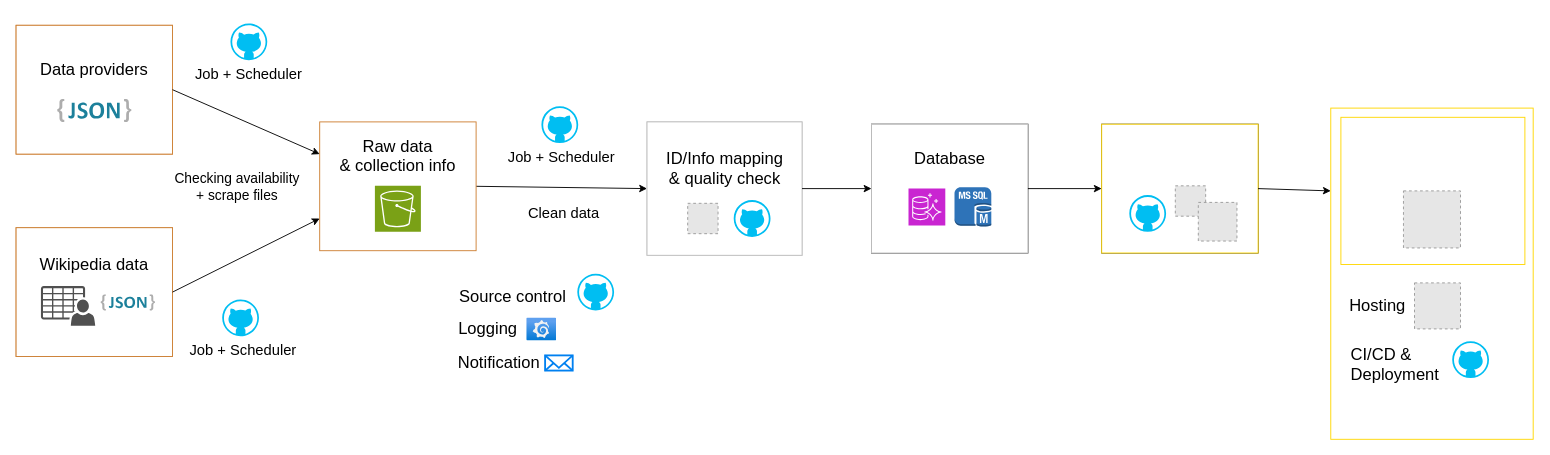
Image size: 1550x455. Some labels were removed from this diagram. Grey dashed boxes stand in for pictures. Here are the shapes that lost their labels. From the top down, the box of each, then its label:
(1101, 123, 1258, 253): Business-level transformations
(1340, 116, 1525, 264): Interactive dashboard
